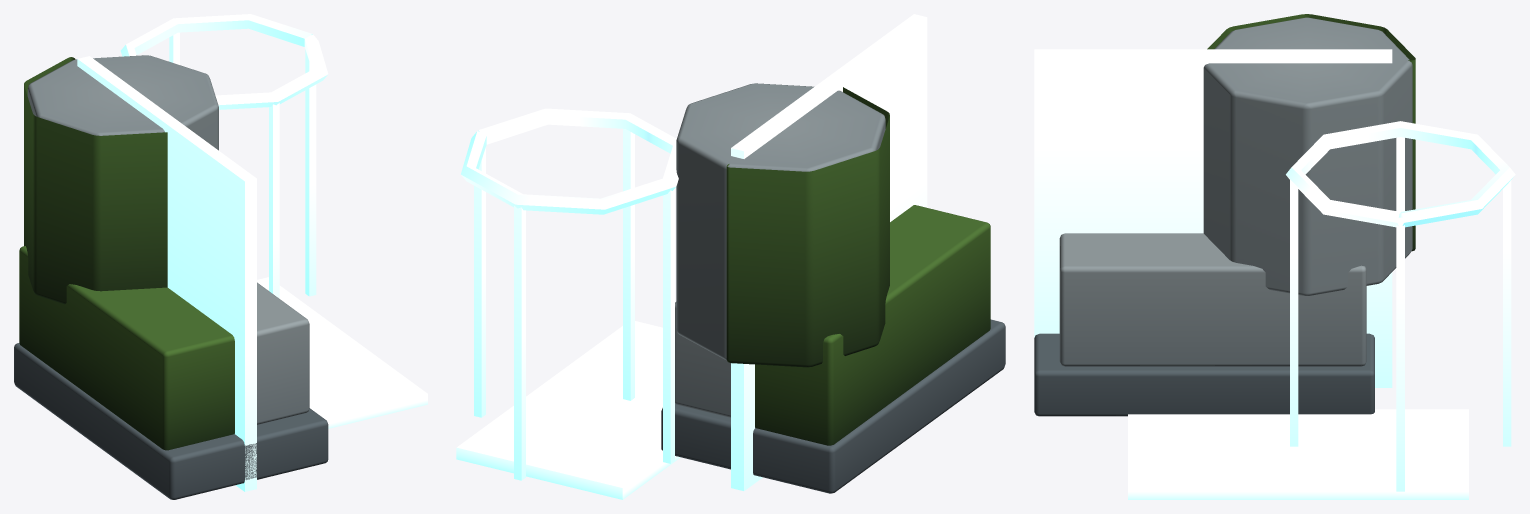
The model's file is lg_severance_striders.glb.
3 views of the same model, side by side, from view 1: azimuth 30°, elevation 25°; view 2: azimuth 150°, elevation 25°; view 3: azimuth 270°, elevation 25° (orthographic). The views are drawn at different scales.
Visible parts, largest first — view 1: lg_severance_striders, lg_severance_striders_glow; view 2: lg_severance_striders, lg_severance_striders_glow; view 3: lg_severance_striders, lg_severance_striders_glow.
Part boxes in pixels (bbox=[...]): lg_severance_striders: bbox=[14, 55, 328, 499]; lg_severance_striders_glow: bbox=[77, 14, 427, 491]; lg_severance_striders: bbox=[661, 83, 1005, 493]; lg_severance_striders_glow: bbox=[456, 14, 927, 499]; lg_severance_striders: bbox=[1034, 14, 1415, 416]; lg_severance_striders_glow: bbox=[1034, 49, 1515, 499].
Size of the model in its own units: 0.9458 by 0.86 by 1.13.
